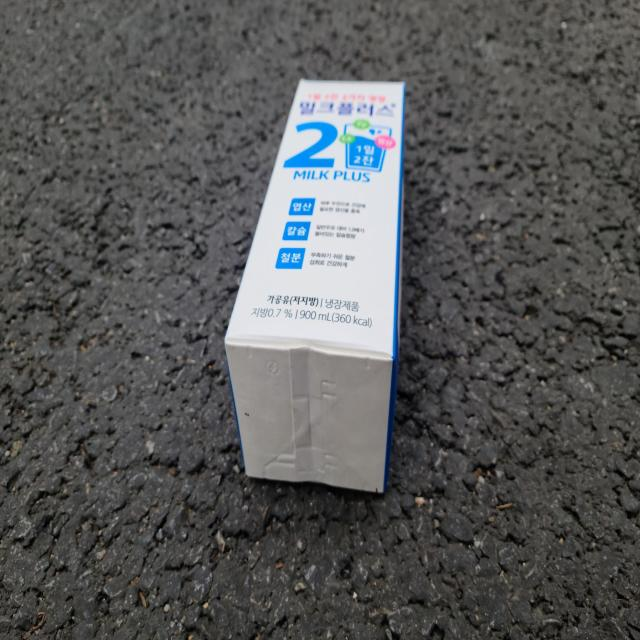paperpack: (225, 79, 405, 493)
